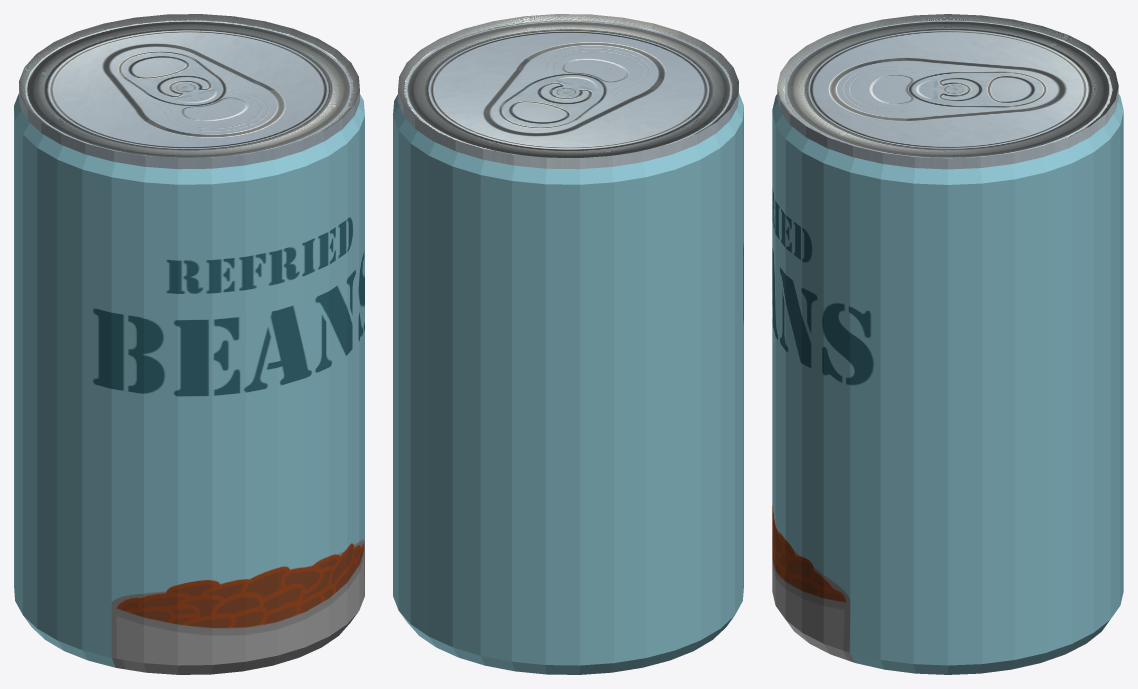
Rendered from can_of_beans.glb.
The picture shows the model from 3 angles, left to right: view 1: azimuth 30°, elevation 25°; view 2: azimuth 150°, elevation 25°; view 3: azimuth 270°, elevation 25°; orthographic projection.
Parts seen in each view (by area): view 1: Cylinder; view 2: Cylinder; view 3: Cylinder.
Part boxes in pixels (left/top/right/bottom): Cylinder: left=14, top=14, right=364, bottom=674; Cylinder: left=393, top=14, right=743, bottom=674; Cylinder: left=772, top=14, right=1123, bottom=674.
Size of the model in its own units: 0.1403 by 0.2283 by 0.1403.
2 materials, 2 textured.
